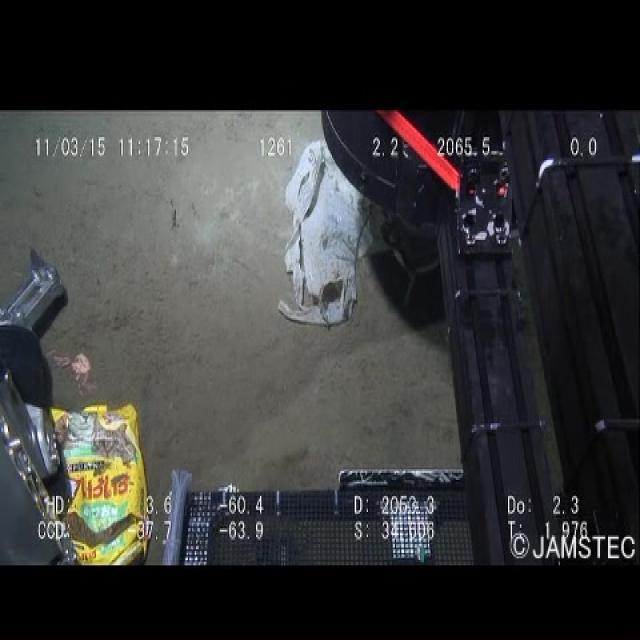plastic: (270, 130, 386, 334), (48, 397, 151, 566)
